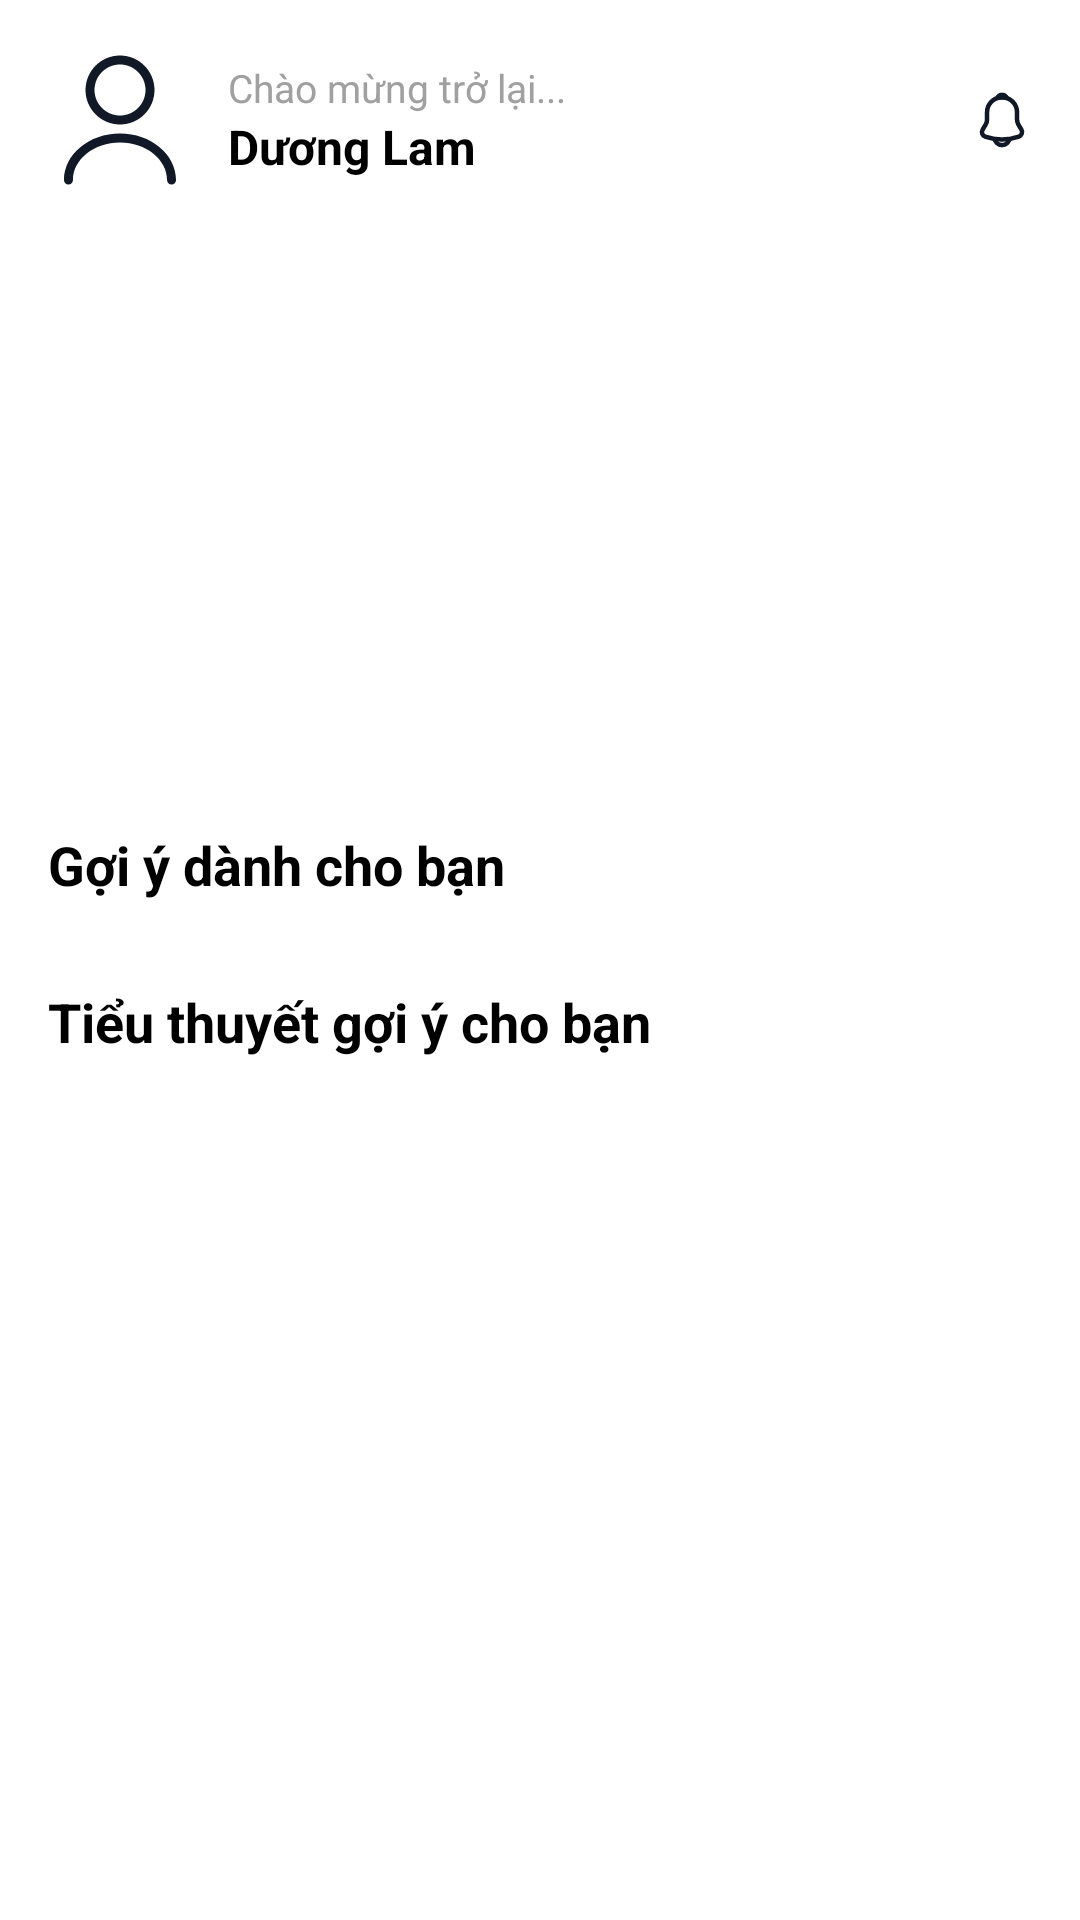

Where to tap for icons on this 1080x1920 app screen, as point (x, y):
notification: point (1002, 120)
profile: point (120, 120)
